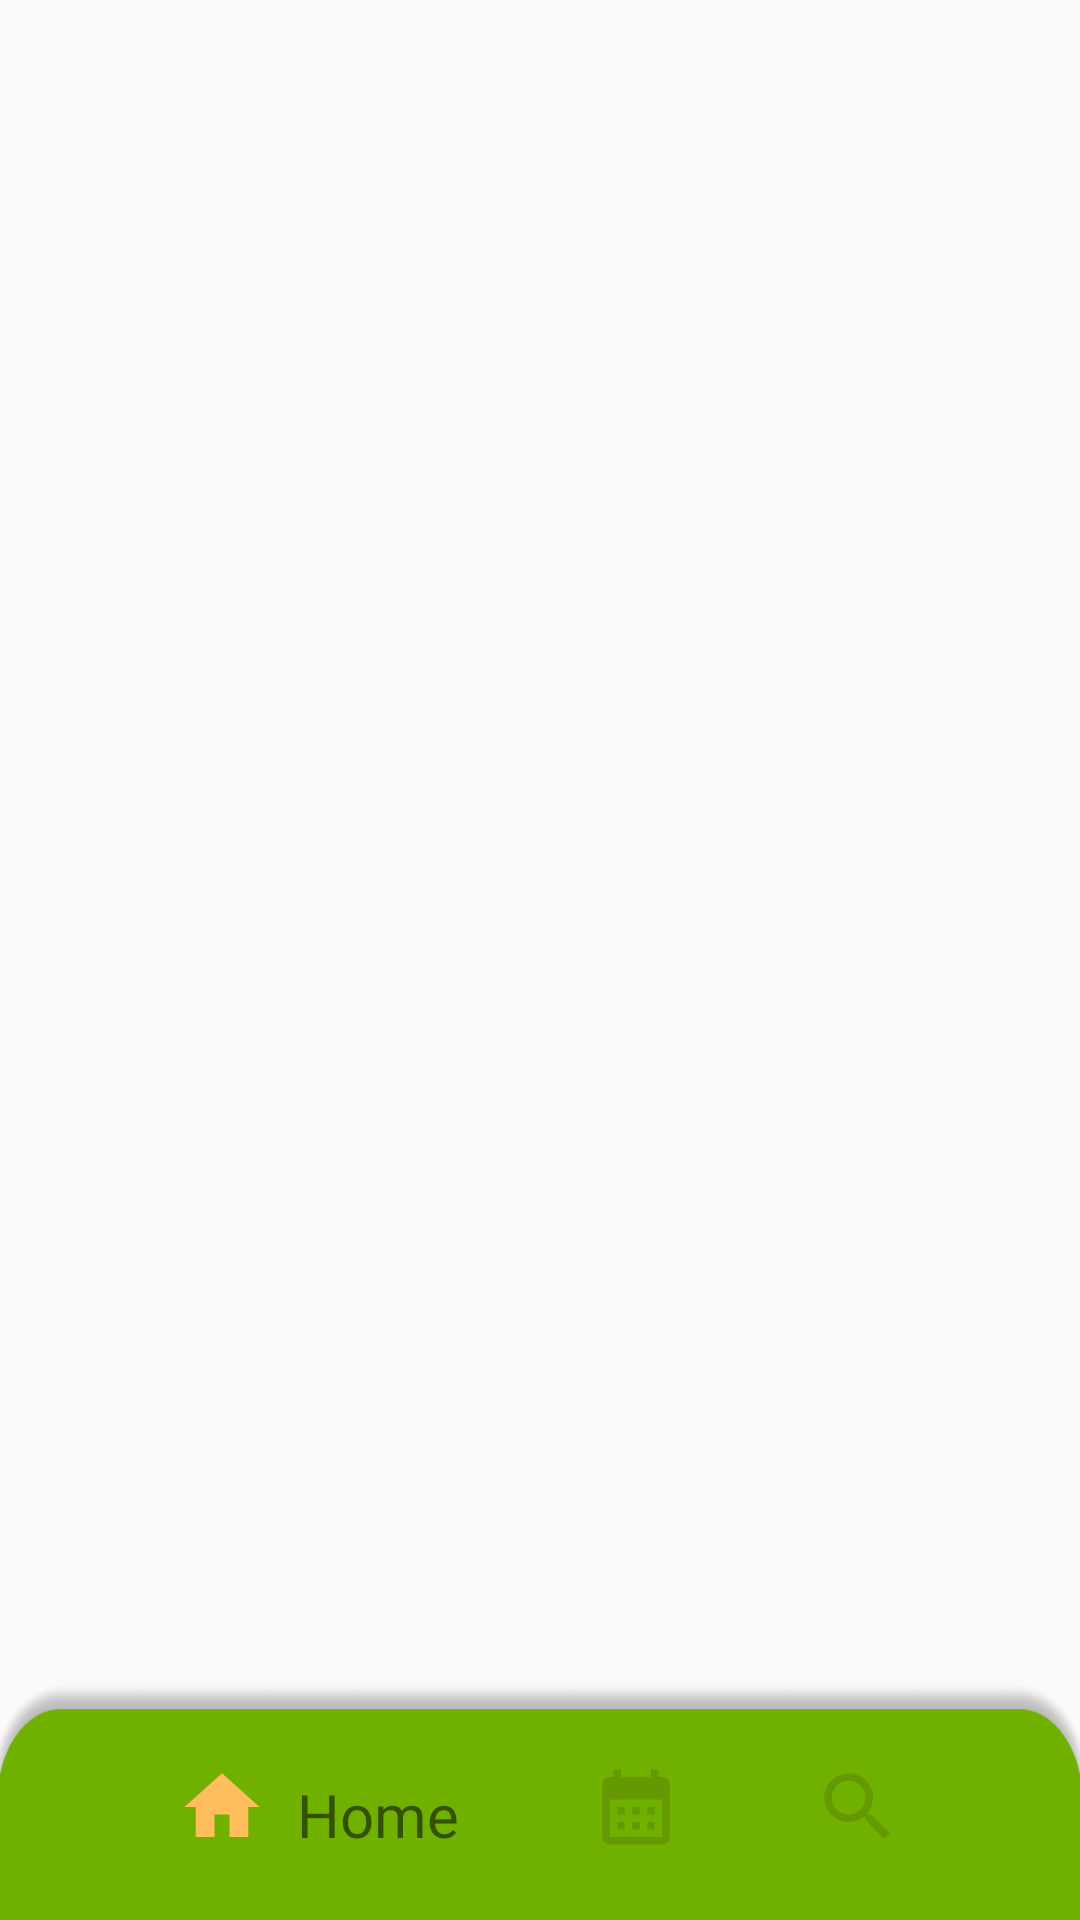

Point at icon controls on the screen. Image size 1080*1920, points as (x,y).
search: (857,1806)
vektorkalender: (636,1807)
